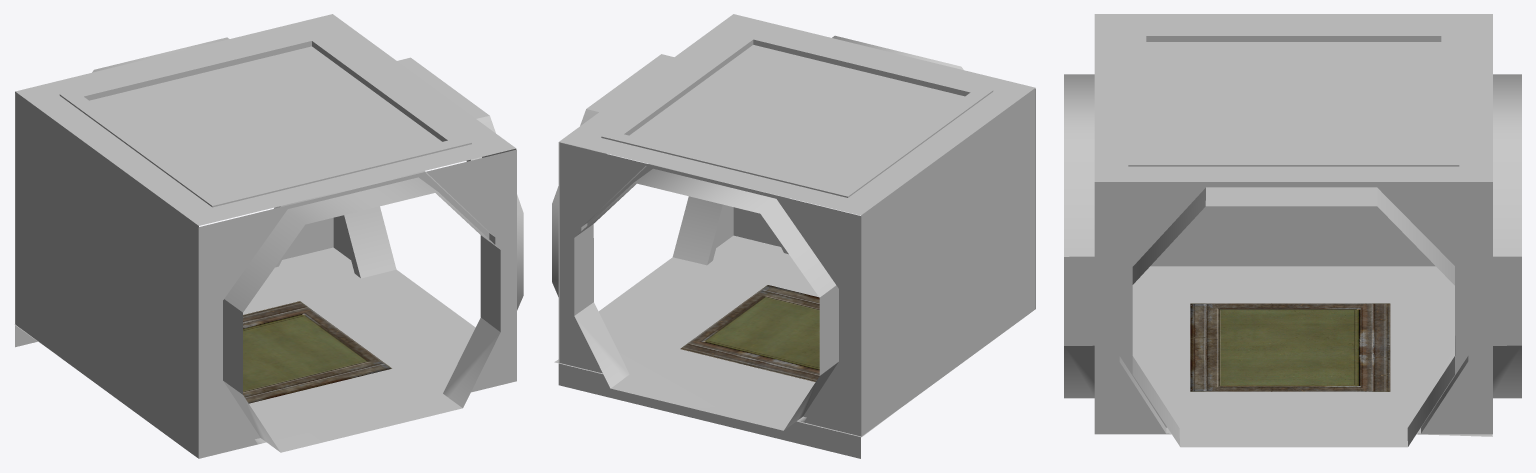
Rendered from 3G_Corridor.fbx.
3 renders of one model, left to right at view 1: azimuth 30°, elevation 25°; view 2: azimuth 150°, elevation 25°; view 3: azimuth 270°, elevation 25°, orthographic. The views are drawn at different scales.
Parts seen in each view (by area): view 1: Cube (15); view 2: Cube (15); view 3: Cube (15).
Boxes of the visible parts, x1,y1,x2,y2 form: Cube (15): (14, 14, 523, 458); Cube (15): (552, 14, 1035, 458); Cube (15): (1064, 14, 1521, 447).
Bounding box in the file's own units: 487 × 349 × 520.
